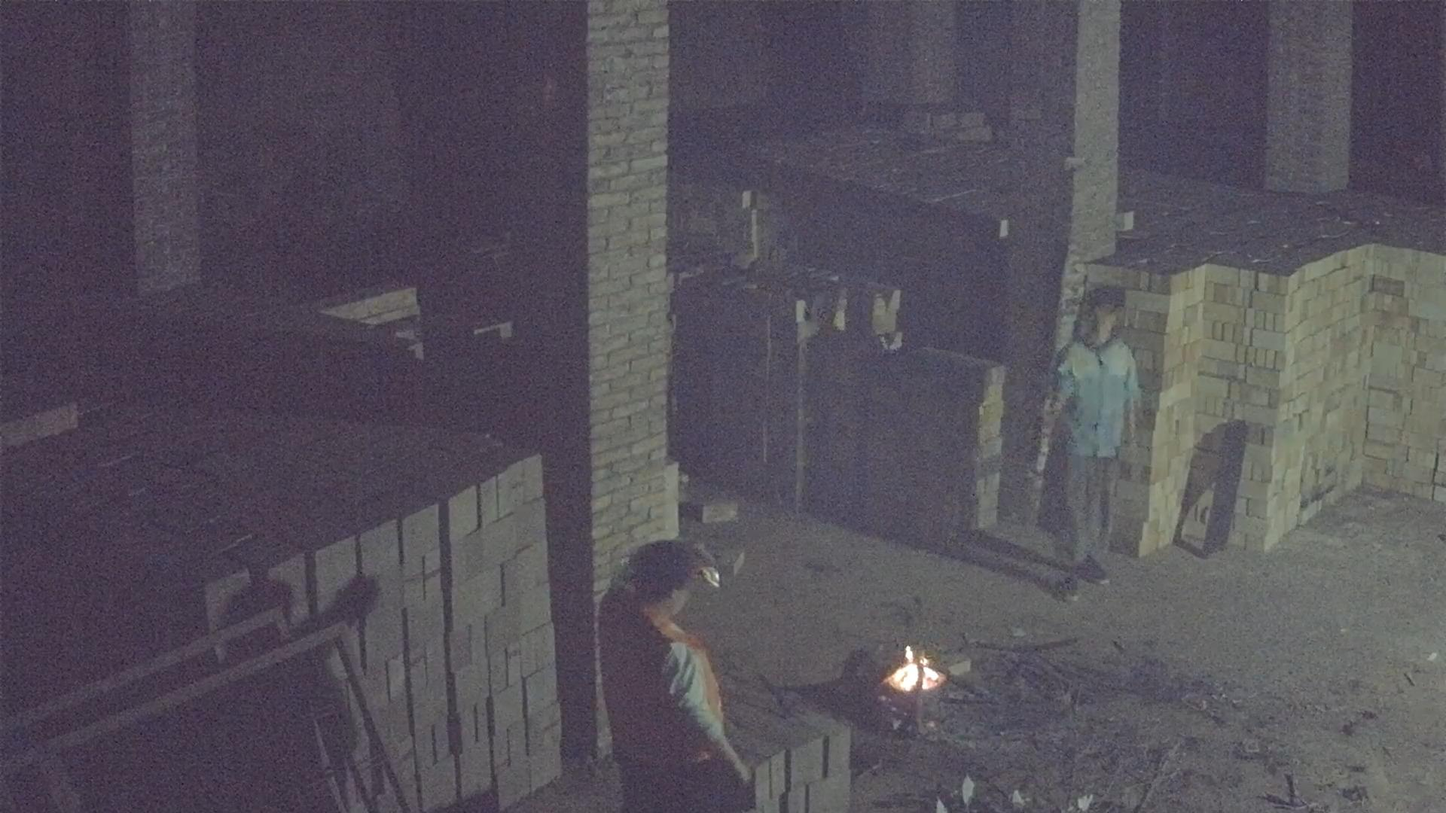fire: (886, 646, 946, 694)
